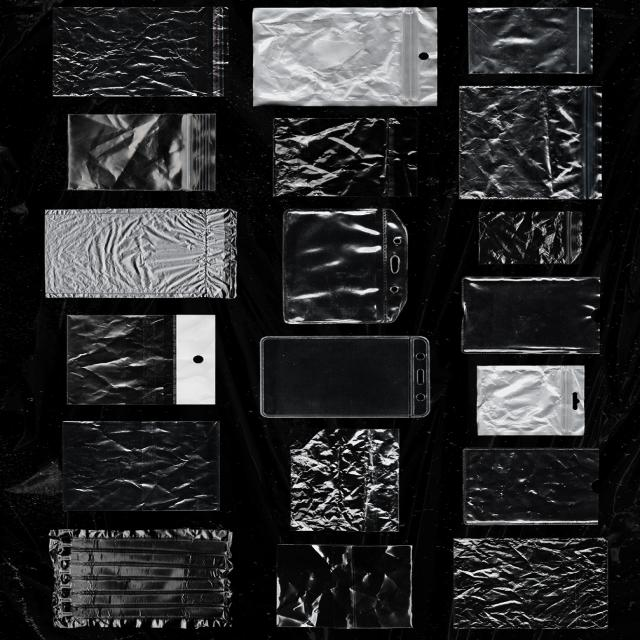Single-layer Plastic: (252, 8, 437, 106), (49, 529, 232, 628), (44, 209, 237, 298), (460, 86, 601, 198), (53, 8, 227, 96), (283, 209, 409, 324), (453, 538, 608, 629), (63, 421, 219, 511), (260, 336, 430, 418), (68, 315, 216, 405), (287, 429, 399, 532), (68, 114, 216, 191), (277, 545, 412, 629), (273, 118, 417, 196), (461, 278, 600, 354), (463, 449, 598, 525), (468, 8, 593, 74), (476, 365, 585, 435), (479, 211, 581, 264)
